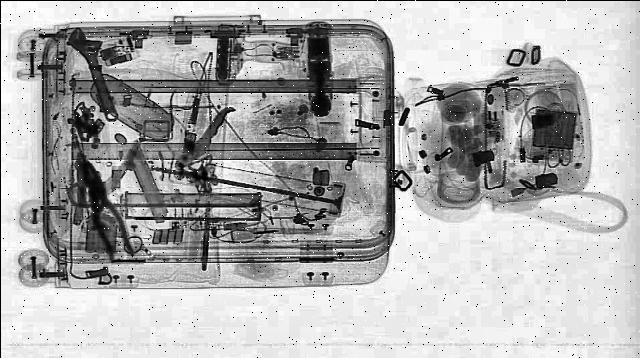Pliers: (64, 152, 138, 258)
Wrench: (60, 25, 130, 123)
